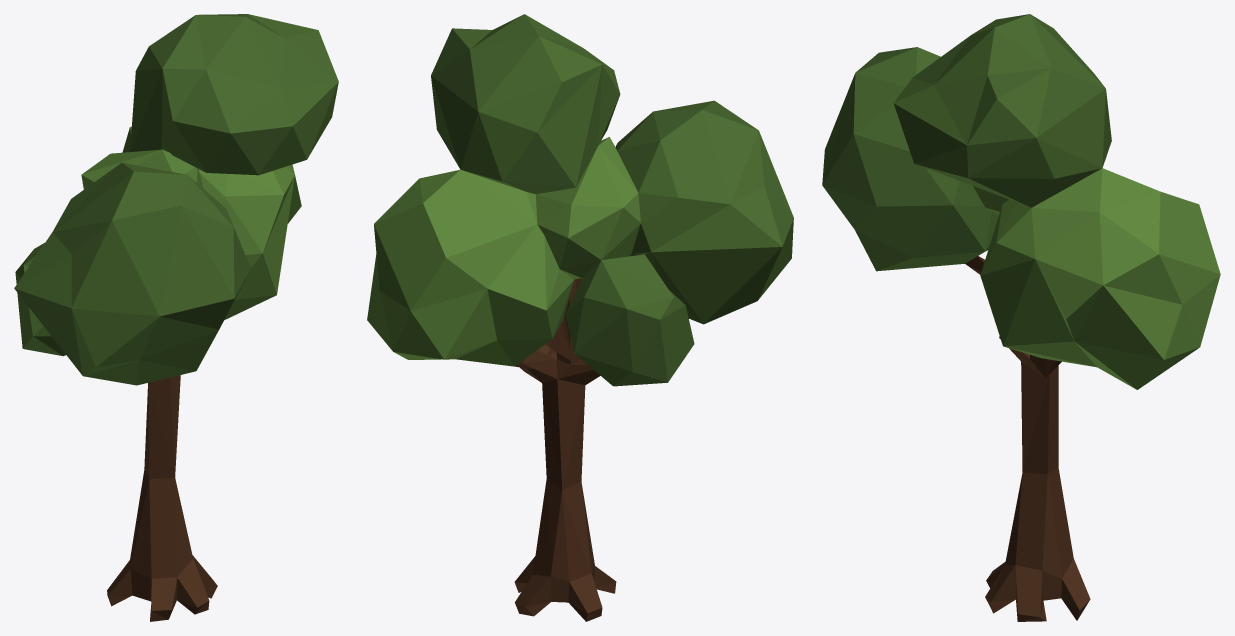
File: Tree_03.fbx
3 renders of one model, left to right at view 1: azimuth 30°, elevation 25°; view 2: azimuth 150°, elevation 25°; view 3: azimuth 270°, elevation 25°, orthographic. The views are drawn at different scales.
Visible parts, largest first — view 1: Cylinder; view 2: Cylinder; view 3: Cylinder.
Part boxes in pixels (x1,y1,x2,y2): Cylinder: (14,14,338,621); Cylinder: (367,14,793,621); Cylinder: (822,14,1220,621).
Size of the model in its own units: 374 by 606 by 358.
